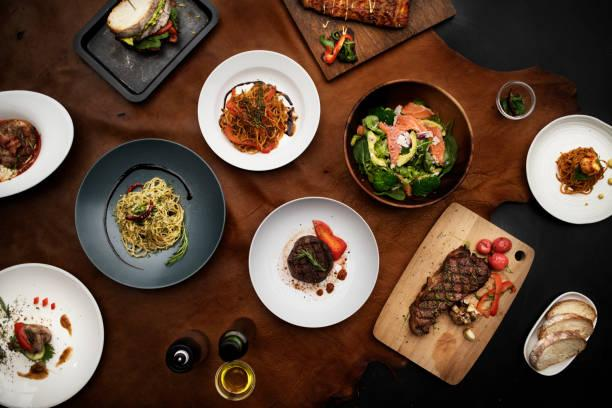Braised Crucian Carp: (371, 201, 534, 382), (73, 136, 230, 293), (246, 191, 382, 334), (343, 78, 470, 208), (195, 48, 322, 176), (1, 261, 105, 408)
